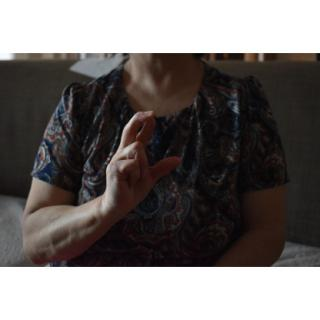DHELL: (96, 100, 185, 222)
